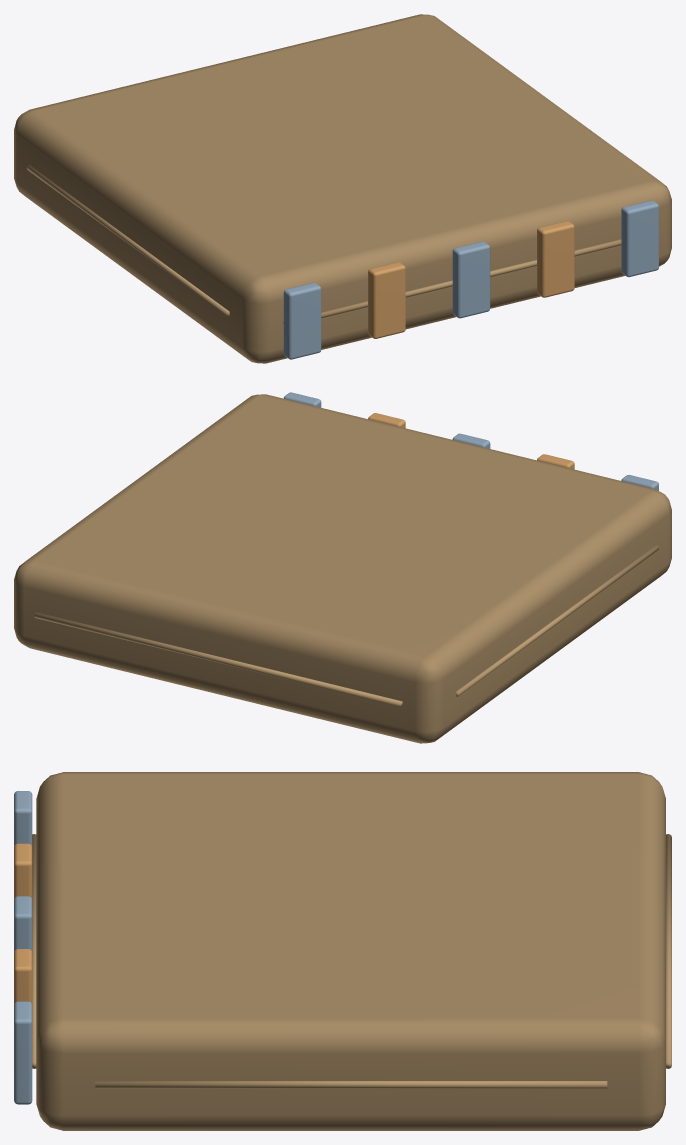
Rendered from almofadas-paleta-conjunto-de-3.glb.
3 views of the same model, one above another, from view 1: azimuth 30°, elevation 25°; view 2: azimuth 150°, elevation 25°; view 3: azimuth 270°, elevation 25° (orthographic). The views are drawn at different scales.
Parts seen in each view (by area): view 1: Almofada interior, Padrao tecido.002, Padrao tecido, Padrao tecido.004, Padrao tecido.003, Padrao tecido.001, Pesponto de canto, Pesponto lateral; view 2: Almofada interior, Pesponto lateral.001, Pesponto de canto; view 3: Almofada interior, Pesponto de canto.001, Padrao tecido.004, Pesponto lateral.001, Pesponto lateral, Padrao tecido.001, Padrao tecido, Padrao tecido.002, Padrao tecido.003.
Part boxes in pixels (left/top/right/bottom): Almofada interior: left=14, top=14, right=671, bottom=363; Padrao tecido.002: left=452, top=241, right=490, bottom=318; Padrao tecido: left=283, top=283, right=321, bottom=359; Padrao tecido.004: left=621, top=200, right=658, bottom=277; Padrao tecido.003: left=537, top=221, right=574, bottom=297; Padrao tecido.001: left=368, top=262, right=405, bottom=338; Pesponto de canto: left=26, top=165, right=229, bottom=316; Pesponto lateral: left=283, top=239, right=621, bottom=325; Almofada interior: left=14, top=394, right=671, bottom=743; Pesponto lateral.001: left=34, top=612, right=402, bottom=707; Pesponto de canto: left=456, top=545, right=659, bottom=696; Almofada interior: left=36, top=772, right=665, bottom=1130; Pesponto de canto.001: left=95, top=1081, right=607, bottom=1088; Padrao tecido.004: left=14, top=1001, right=32, bottom=1104; Pesponto lateral.001: left=666, top=834, right=671, bottom=1068; Pesponto lateral: left=32, top=834, right=36, bottom=1068; Padrao tecido.001: left=14, top=843, right=32, bottom=899; Padrao tecido: left=14, top=791, right=32, bottom=846; Padrao tecido.002: left=14, top=896, right=32, bottom=951; Padrao tecido.003: left=14, top=949, right=32, bottom=1004.
Bounding box in the file's own units: 0.4145 × 0.0792 × 0.4279.
